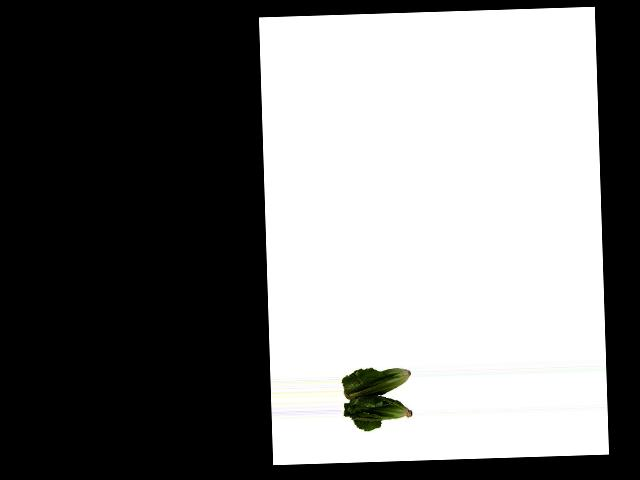lettuce: (341, 363, 413, 425)
